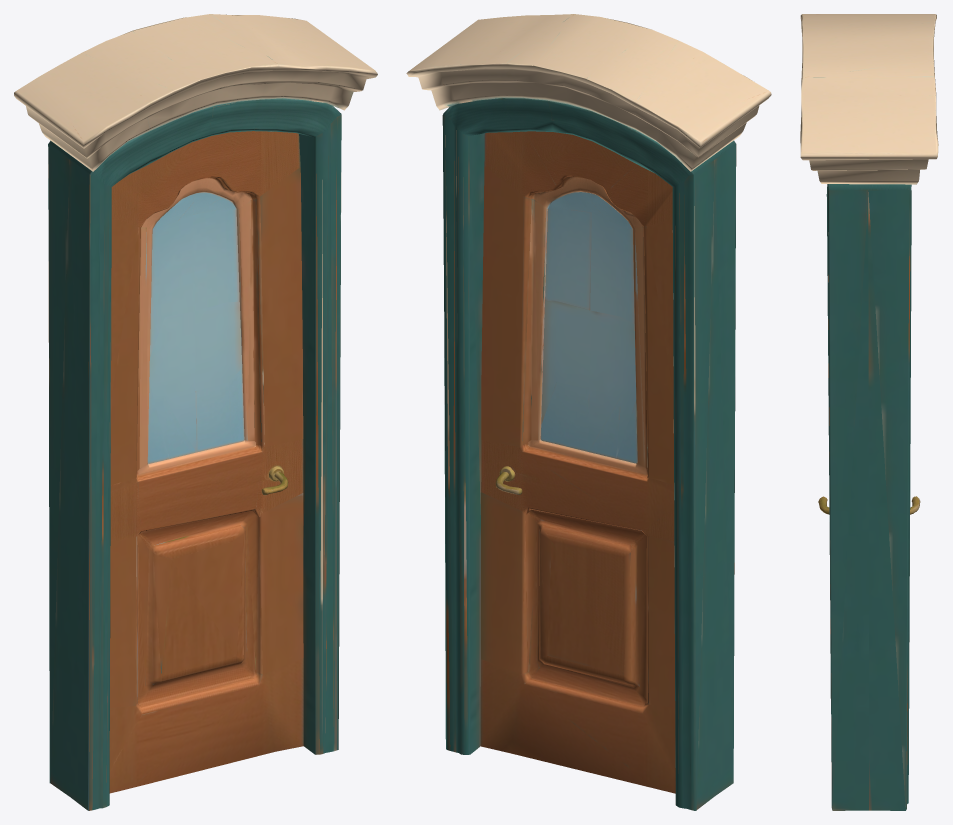
File: env_cafe_wall_door.glb
3 views of the same model, side by side, from view 1: azimuth 30°, elevation 25°; view 2: azimuth 150°, elevation 25°; view 3: azimuth 270°, elevation 25° (orthographic). The views are drawn at different scales.
Bounding box in the file's own units: 0.4289 × 1 × 0.1786.
Materials: 1 (1 with a texture image).
